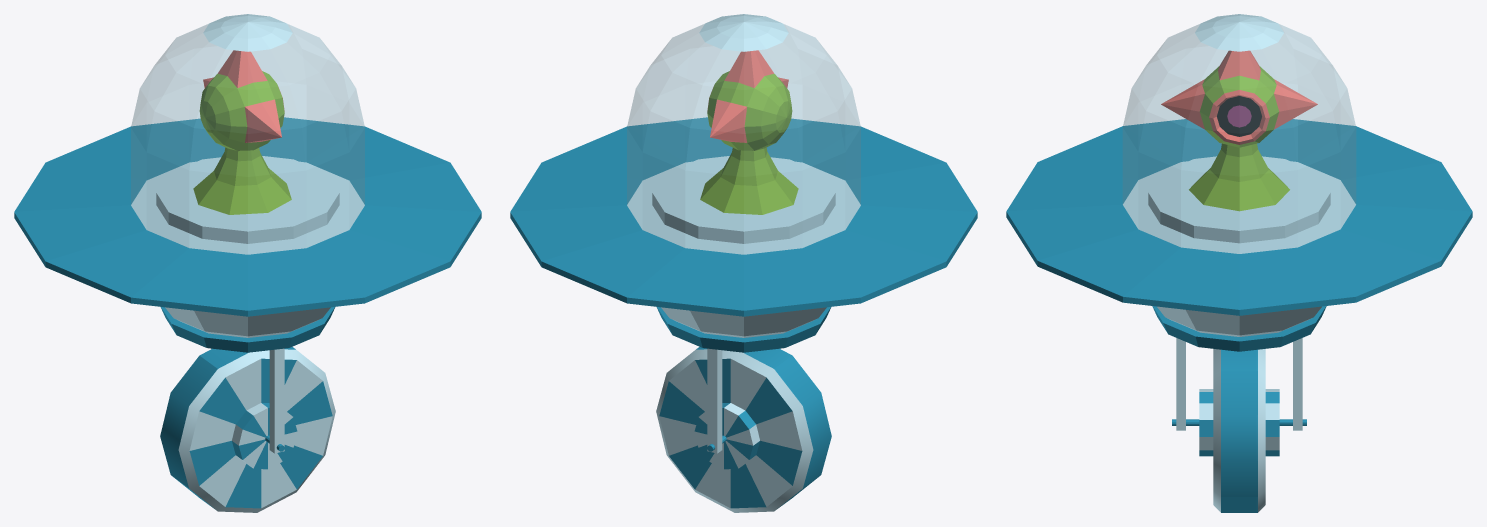
Rendered from AlienGround.fbx.
The picture shows the model from 3 angles, left to right: view 1: azimuth 30°, elevation 25°; view 2: azimuth 150°, elevation 25°; view 3: azimuth 270°, elevation 25°; orthographic projection.
Parts seen in each view (by area): view 1: AlienGround, Wheel; view 2: AlienGround, Wheel; view 3: AlienGround, Wheel.
Part boxes in pixels (x1,y1,x2,y2): AlienGround: (14,14,481,453); Wheel: (160,347,335,512); AlienGround: (510,14,977,453); Wheel: (656,347,831,512); AlienGround: (1006,14,1472,430); Wheel: (1172,349,1306,512).
Bounding box in the file's own units: 47.64 × 54.43 × 47.64.
2 materials, 2 textured.
